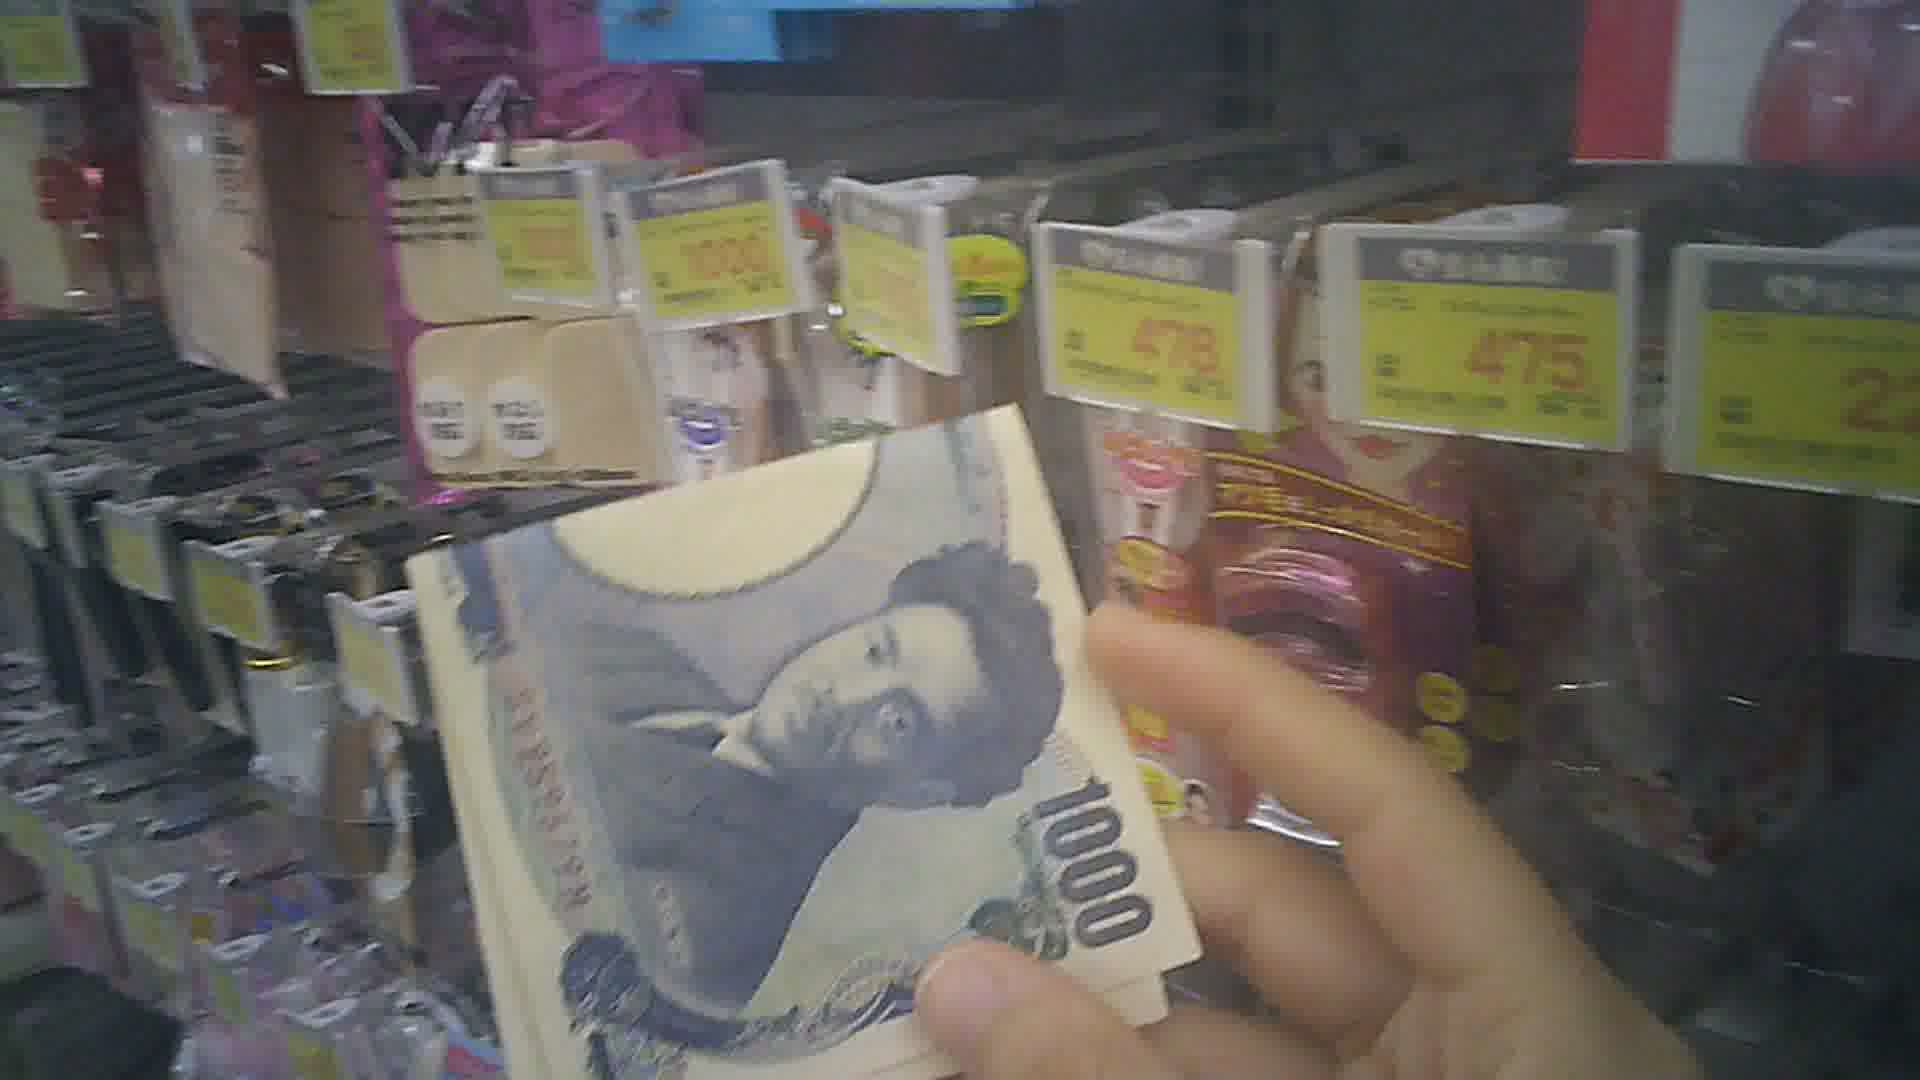1,000 Yen: (396, 400, 1221, 1079)
